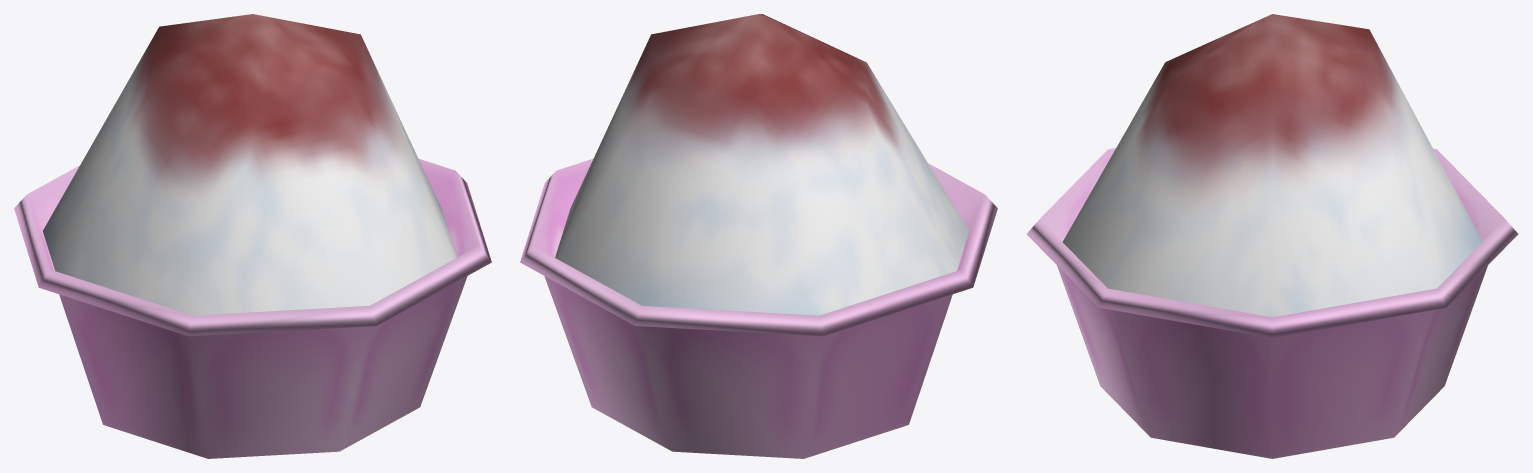
File: jsf_ShavedIce_02f.fbx
The picture shows the model from 3 angles, left to right: view 1: azimuth 30°, elevation 25°; view 2: azimuth 150°, elevation 25°; view 3: azimuth 270°, elevation 25°; orthographic projection.
Parts seen in each view (by area): view 1: jsf_ShavedIce_02f; view 2: jsf_ShavedIce_02f; view 3: jsf_ShavedIce_02f.
Part boxes in pixels (x1=…): jsf_ShavedIce_02f: x1=14, y1=14, x2=491, y2=458; jsf_ShavedIce_02f: x1=520, y1=14, x2=997, y2=458; jsf_ShavedIce_02f: x1=1026, y1=14, x2=1518, y2=458.
Bounding box in the file's own units: 12 × 10.01 × 12.
